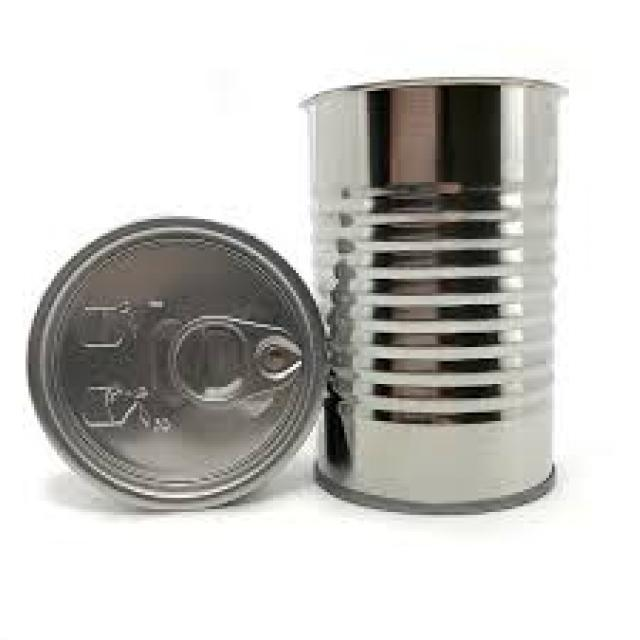metal-can: (299, 76, 562, 518), (26, 217, 327, 509)
